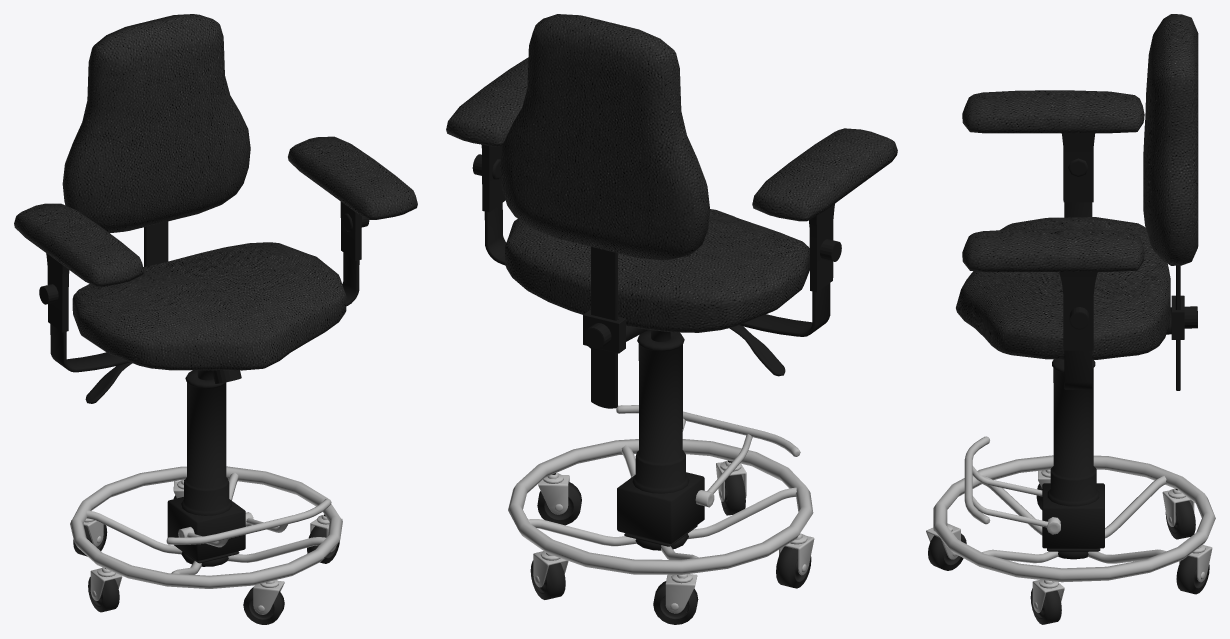
Rendered from Chair.fbx.
3 views of the same model, side by side, from view 1: azimuth 30°, elevation 25°; view 2: azimuth 150°, elevation 25°; view 3: azimuth 270°, elevation 25° (orthographic). The views are drawn at different scales.
Visible parts, largest first — view 1: polySurface398, polySurface392, polySurface330, polySurface326, polySurface343, polySurface342, polySurface337, polySurface315, polySurface364, polySurface352, polySurface357, polySurface339; view 2: polySurface398, polySurface392, polySurface330, polySurface326, polySurface337, polySurface343, polySurface342, polySurface315, polySurface352, polySurface357, polySurface385, polySurface336 (+4 smaller); view 3: polySurface398, polySurface392, polySurface330, polySurface326, polySurface315, polySurface342, polySurface352, polySurface378, polySurface385, polySurface364, polySurface371, polySurface336 (+2 smaller).
Boxes of the visible parts, <box> form: polySurface398: <box>14,14,417,370</box>; polySurface392: <box>70,370,342,614</box>; polySurface330: <box>181,370,231,515</box>; polySurface326: <box>167,497,245,560</box>; polySurface343: <box>50,324,129,372</box>; polySurface342: <box>46,253,69,332</box>; polySurface337: <box>144,221,168,266</box>; polySurface315: <box>340,201,361,260</box>; polySurface364: <box>243,587,284,624</box>; polySurface352: <box>342,252,359,306</box>; polySurface357: <box>88,577,119,612</box>; polySurface339: <box>85,362,132,403</box>; polySurface398: <box>446,14,897,332</box>; polySurface392: <box>508,330,814,613</box>; polySurface330: <box>632,330,689,493</box>; polySurface326: <box>617,472,704,544</box>; polySurface337: <box>591,246,617,408</box>; polySurface343: <box>739,283,830,336</box>; polySurface342: <box>809,204,834,292</box>; polySurface315: <box>481,144,505,212</box>; polySurface352: <box>484,203,506,265</box>; polySurface357: <box>776,546,811,588</box>; polySurface385: <box>653,581,698,624</box>; polySurface336: <box>583,310,625,353</box>; polySurface398: <box>956,14,1198,359</box>; polySurface392: <box>926,436,1215,612</box>; polySurface330: <box>1047,359,1099,506</box>; polySurface326: <box>1042,483,1104,548</box>; polySurface315: <box>1059,272,1097,350</box>; polySurface342: <box>1061,133,1095,202</box>; polySurface352: <box>1064,350,1092,389</box>; polySurface378: <box>1176,556,1209,594</box>; polySurface385: <box>1165,500,1195,539</box>; polySurface364: <box>928,533,966,570</box>; polySurface371: <box>1030,588,1061,624</box>; polySurface336: <box>1171,295,1184,339</box>.
Size of the model in its own units: 2.62 by 3.95 by 1.93.
